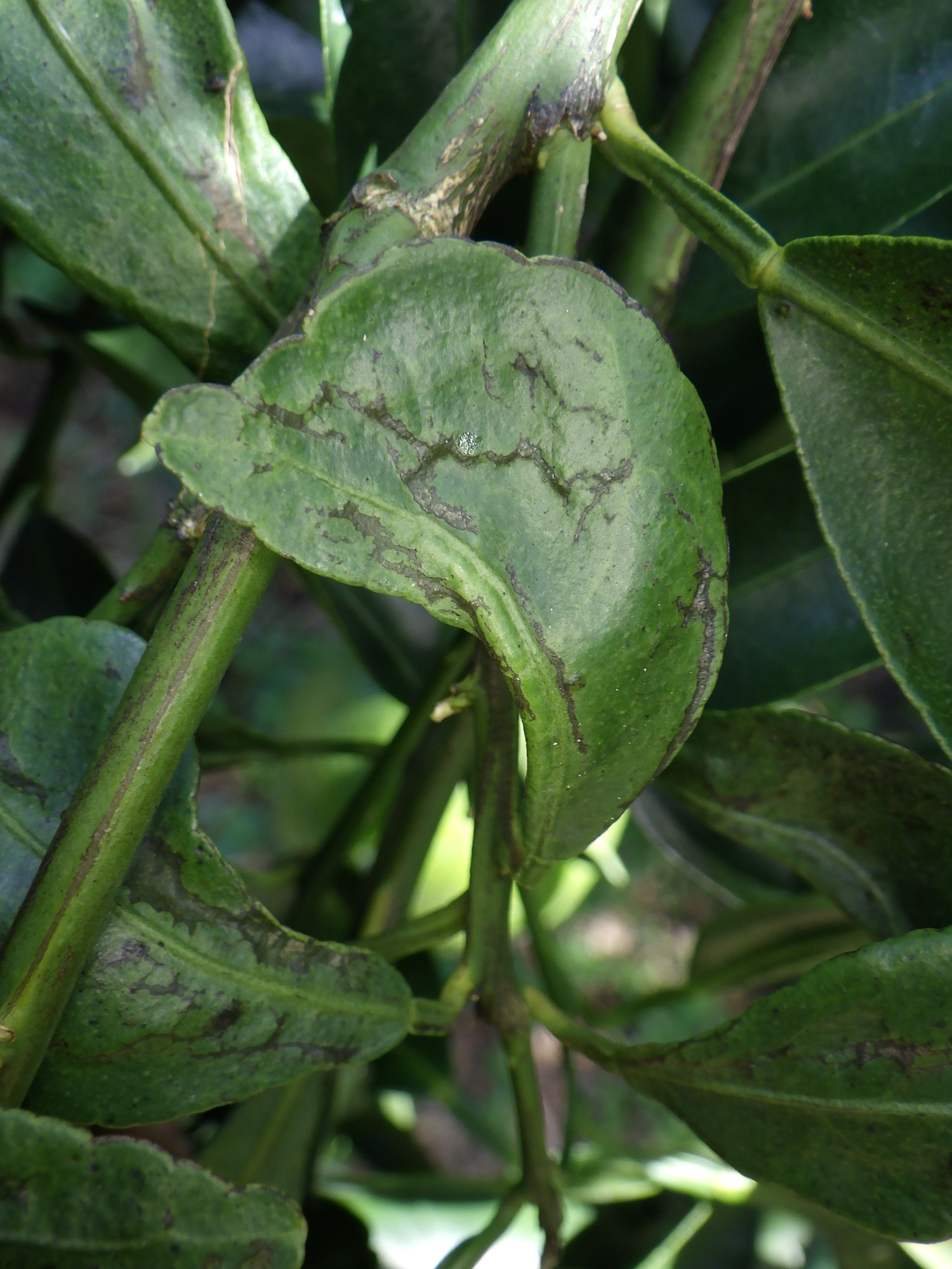Thrips_Damage: (250, 346, 716, 764)
